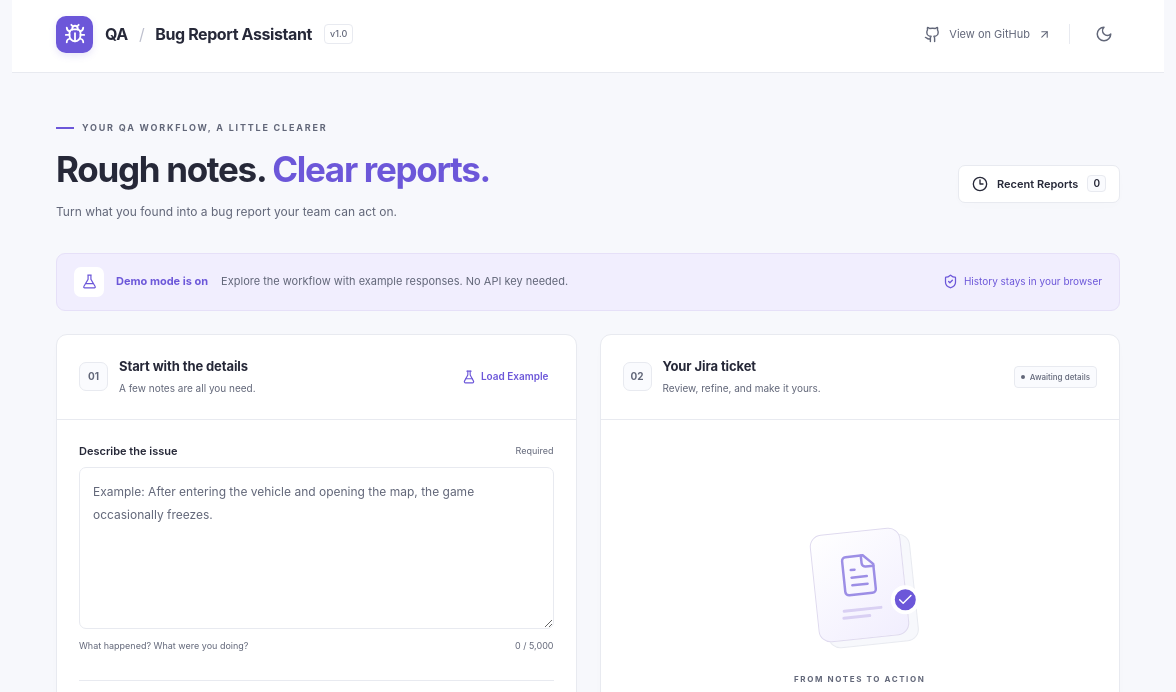
Test: report detail and evidence › manual edits change provenance and clearing a value marks it missing
The image size is (1176, 692).
Click the button "Load Example". click: x=505, y=377
box: [457,364,554,389]
(page scrolled)
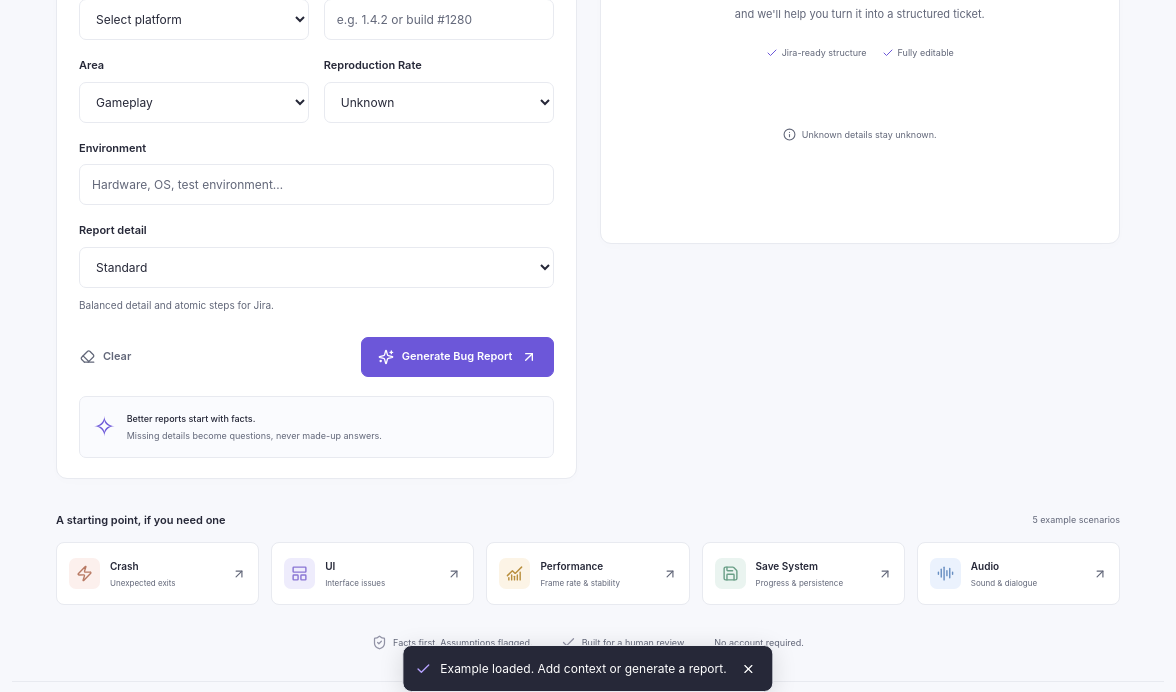
Click the button "Generate Bug Report". click: x=457, y=357
box: [361,337,554,377]
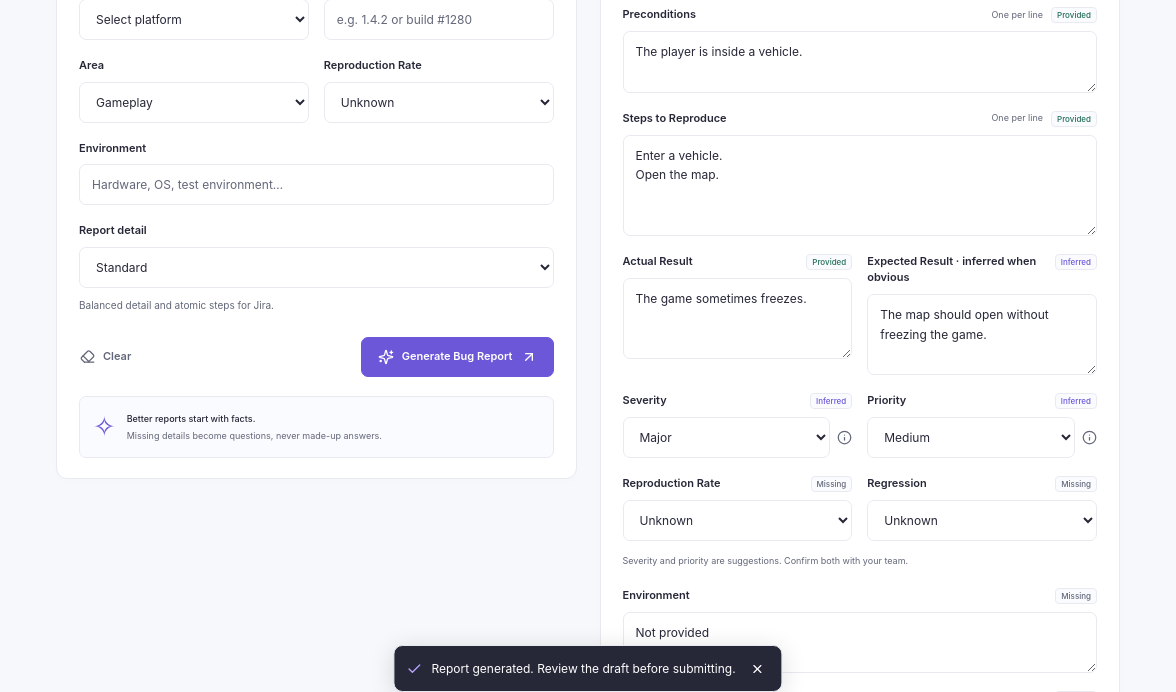
Check: the text "Inferred" next to "Expected Result · inferred when obvious" is shown, box [1061,257,1091,267]
Clear the text box labelled "Expected Result · inferred when obvious". click: x=982, y=334
box: [867,294,1097,375]
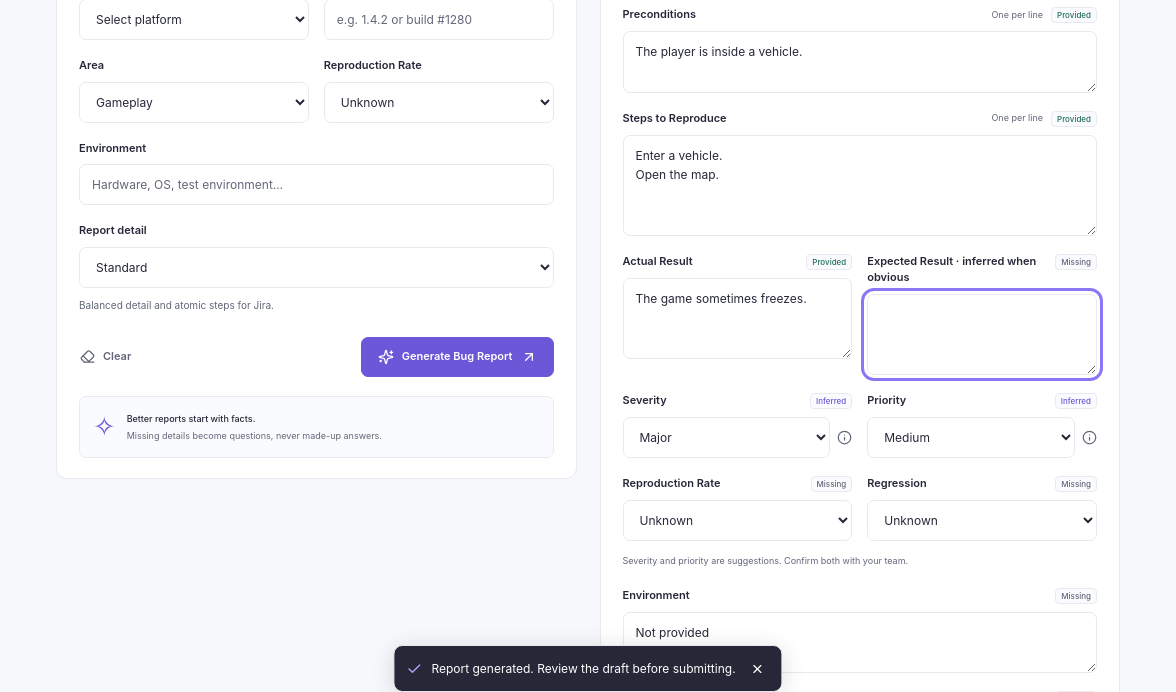
Check: the text "Missing" next to "Expected Result · inferred when obvious" is shown, box [1061,257,1091,267]
Type "Verified by tester." into the text box labelled "Expected Result · inferred when obvious". click: x=982, y=334
box: [867,294,1097,375]
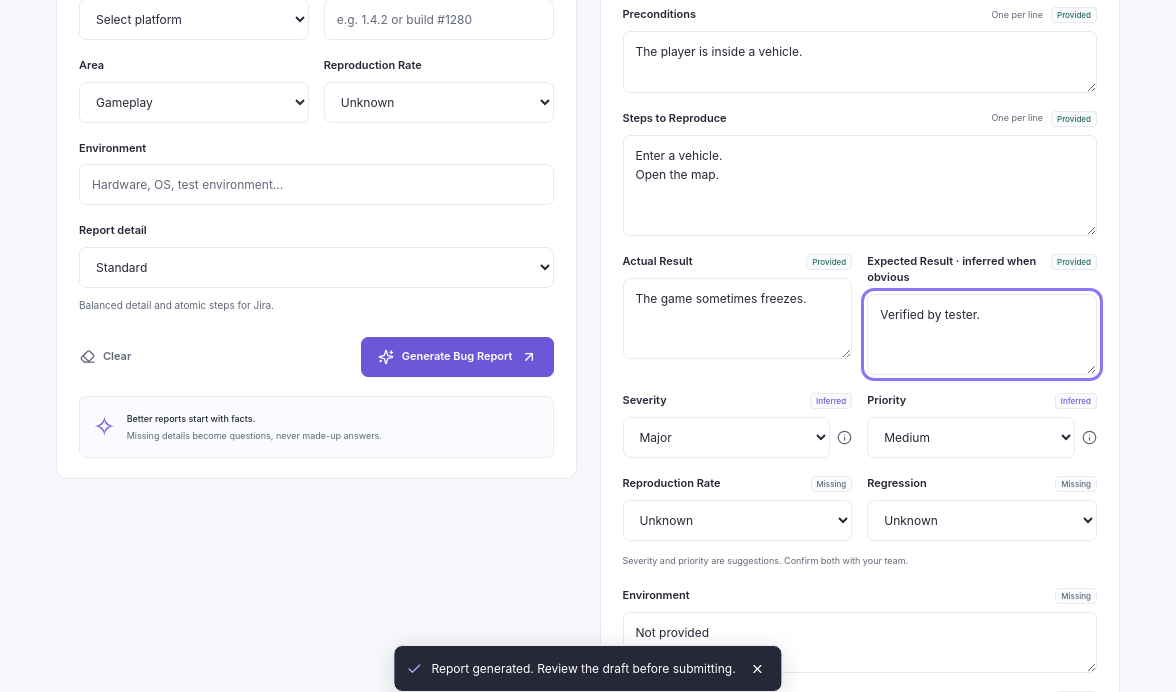
Check: the text "Provided" next to "Expected Result · inferred when obvious" is shown, box [1057,257,1091,267]
